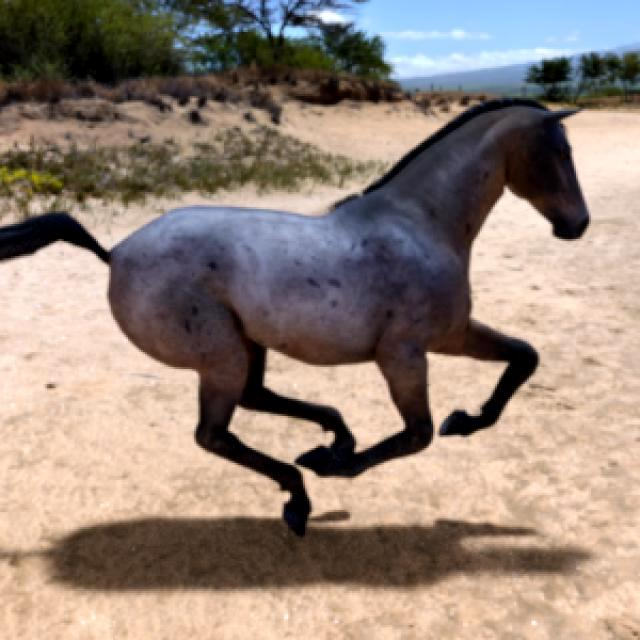horse: (0, 100, 589, 534)
